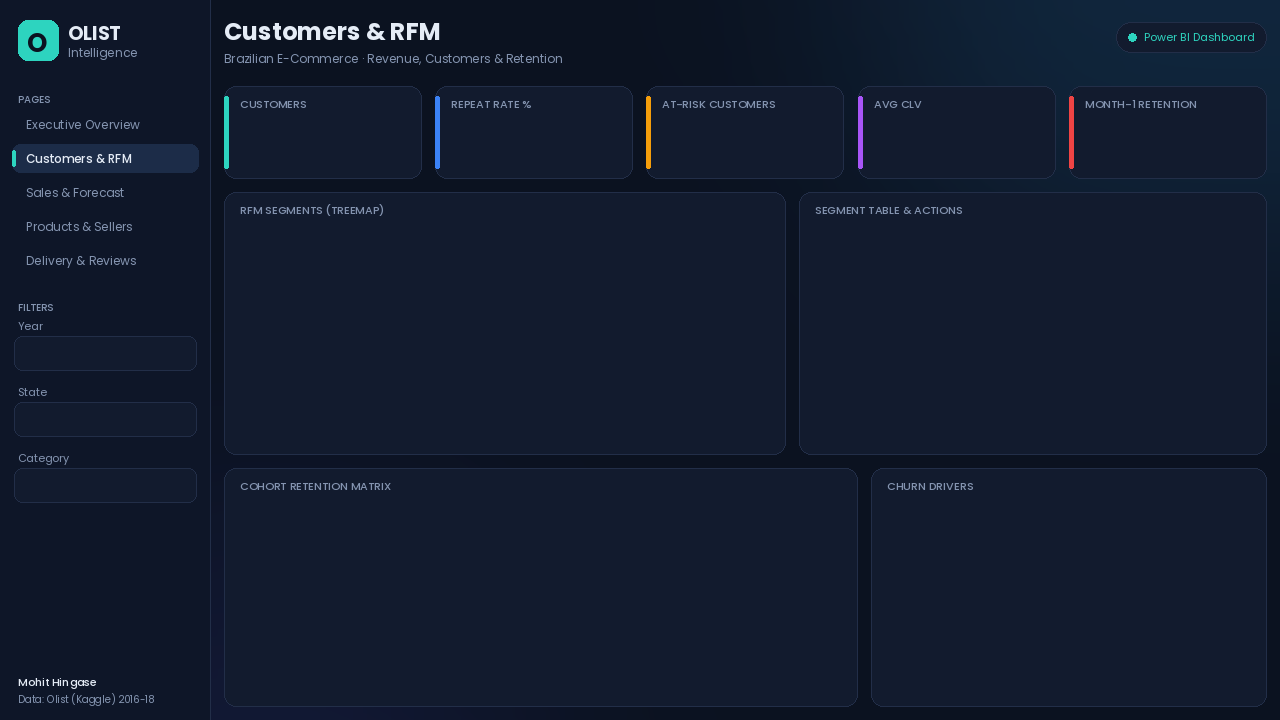

What the dashboard file says about the page in this screenshot:
{"tool":"powerbi","page":{"name":"Customers & RFM","canvas":[1280,720],"ordinal":1},"visuals":[{"type":"card","fields":{"Values":["fact_orders.Customers"]},"box":[234,112,179,62],"z":1000},{"type":"card","fields":{"Values":["fact_orders.Repeat Rate %"]},"box":[445,112,179,62],"z":1000},{"type":"card","fields":{"Values":["customer_rfm.At Risk Customers"]},"box":[656,112,179,62],"z":1000},{"type":"card","fields":{"Values":["customer_clv.Avg CLV"]},"box":[868,112,179,62],"z":1000},{"type":"card","fields":{"Values":["agg_cohort_retention.Month1 Retention %"]},"box":[1079,112,179,62],"z":1000},{"type":"treemap","fields":{"Group":["customer_rfm.segment"],"Values":["customer_rfm.RFM Customers"]},"box":[230,222,549,226],"z":1000},{"type":"tableEx","fields":{"Values":["customer_rfm.segment","customer_rfm.RFM Customers","customer_rfm.RFM Revenue","customer_rfm.recommended_action"]},"box":[805,222,455,226],"z":1000},{"type":"pivotTable","fields":{"Columns":["agg_cohort_retention.month_number"],"Rows":["agg_cohort_retention.cohort_month"],"Values":["agg_cohort_retention.Retention %"]},"box":[230,498,621,202],"z":1000},{"type":"barChart","fields":{"Category":["churn_feature_importance.feature"],"Y":["churn_feature_importance.Churn Driver Importance"]},"box":[877,498,383,202],"z":1000},{"type":"slicer","fields":{"Values":["dim_date.year"]},"box":[14,351,182,40],"z":3000},{"type":"slicer","fields":{"Values":["dim_customer.state"]},"box":[14,417,182,40],"z":3000},{"type":"slicer","fields":{"Values":["dim_product.category"]},"box":[14,483,182,40],"z":3000},{"type":"actionButton","box":[12,110,186,28],"z":4000},{"type":"actionButton","box":[12,178,186,28],"z":4002},{"type":"actionButton","box":[12,212,186,28],"z":4003},{"type":"actionButton","box":[12,246,186,28],"z":4004}]}

Visuals, with their boxes on the page's 1280x720 design canvas (x1, y1, x2, y2). These are canvas units, not pixel positions in the 1280x720 screenshot, which may show the page scaled, cropped or inside an application window:
card - fact_orders.Customers: detection(234, 112, 413, 174)
card - fact_orders.Repeat Rate %: detection(445, 112, 624, 174)
card - customer_rfm.At Risk Customers: detection(656, 112, 835, 174)
card - customer_clv.Avg CLV: detection(868, 112, 1047, 174)
card - agg_cohort_retention.Month1 Retention %: detection(1079, 112, 1258, 174)
treemap - customer_rfm.segment x customer_rfm.RFM Customers: detection(230, 222, 779, 448)
tableEx - customer_rfm.segment x customer_rfm.RFM Customers: detection(805, 222, 1260, 448)
pivotTable - agg_cohort_retention.month_number x agg_cohort_retention.cohort_month: detection(230, 498, 851, 700)
barChart - churn_feature_importance.feature x churn_feature_importance.Churn Driver Importance: detection(877, 498, 1260, 700)
slicer - dim_date.year: detection(14, 351, 196, 391)
slicer - dim_customer.state: detection(14, 417, 196, 457)
slicer - dim_product.category: detection(14, 483, 196, 523)
actionButton: detection(12, 110, 198, 138)
actionButton: detection(12, 178, 198, 206)
actionButton: detection(12, 212, 198, 240)
actionButton: detection(12, 246, 198, 274)
